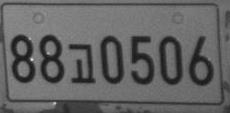0: (158, 35, 183, 86), (100, 34, 124, 84)
5: (130, 35, 155, 85)
6: (188, 35, 214, 86)
8: (10, 33, 36, 83), (39, 33, 65, 83)
고: (68, 43, 96, 83)
